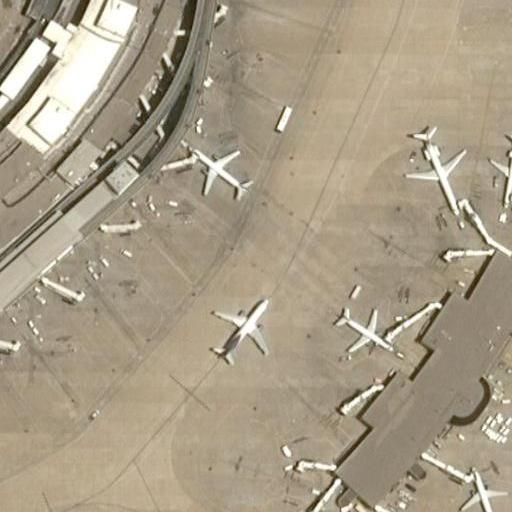Aircraft: (403, 125, 466, 210), (210, 293, 271, 361), (189, 138, 252, 202), (337, 303, 393, 356), (455, 466, 506, 512), (489, 136, 512, 206)
